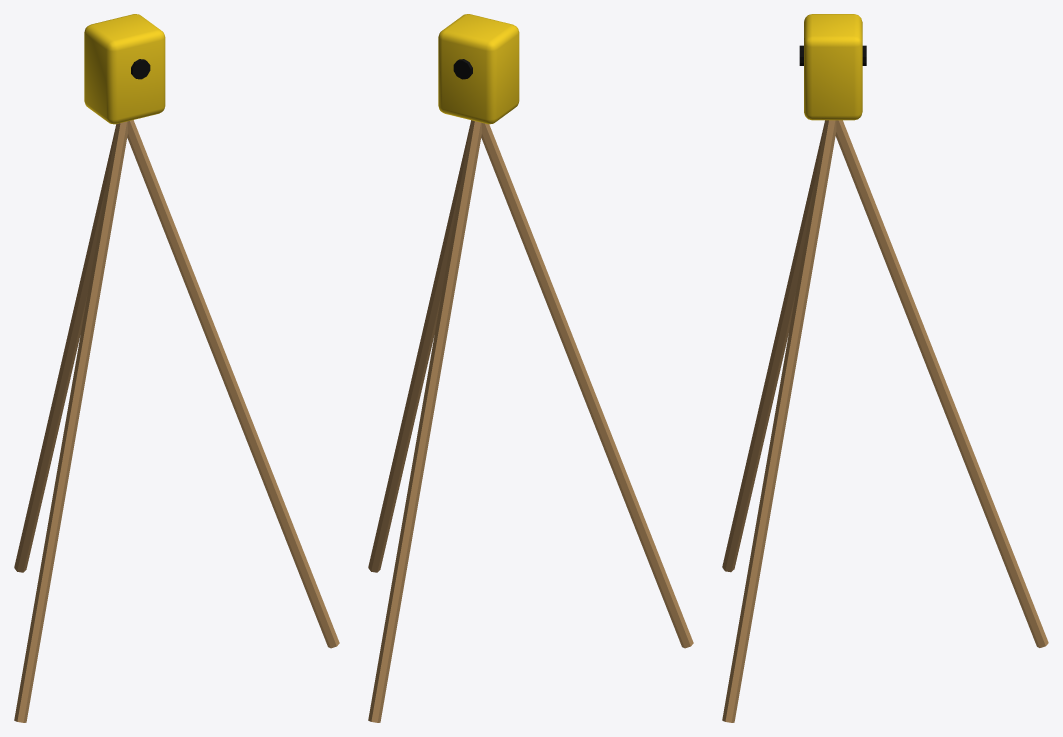
The model's file is plant.tool.theodolite.glb.
3 views of the same model, side by side, from view 1: azimuth 30°, elevation 25°; view 2: azimuth 150°, elevation 25°; view 3: azimuth 270°, elevation 25° (orthographic).
Parts seen in each view (by area): view 1: main__softwood, main__plastic_yellow; view 2: main__softwood, main__plastic_yellow; view 3: main__softwood, main__plastic_yellow.
Boxes of the visible parts, x1,y1,x2,y2 form: main__softwood: (14, 120, 339, 722); main__plastic_yellow: (84, 14, 165, 124); main__softwood: (368, 120, 693, 722); main__plastic_yellow: (438, 14, 519, 124); main__softwood: (722, 120, 1048, 722); main__plastic_yellow: (804, 14, 862, 120).
Size of the model in its own units: 0.8912 by 1.64 by 0.7789.
